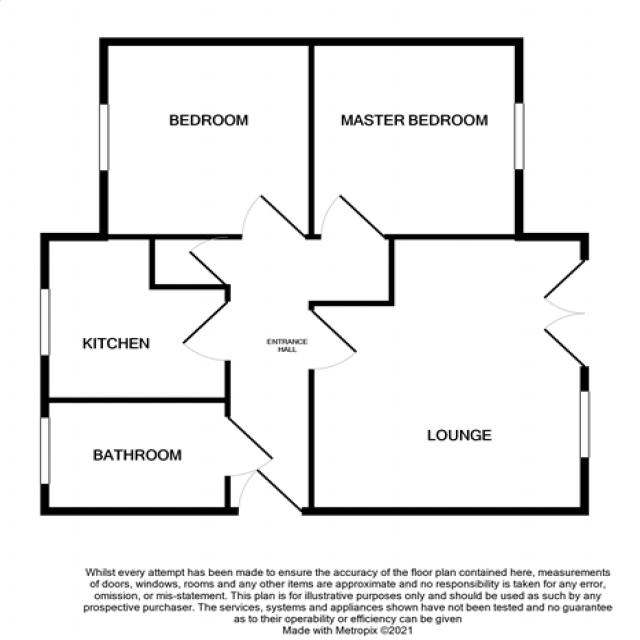DOOR: (223, 415, 277, 479), (237, 467, 305, 517), (307, 308, 360, 372), (240, 192, 308, 241), (319, 192, 387, 241), (180, 299, 232, 363)
DOUBLE DOOR: (539, 257, 590, 369)
ROOM: (307, 232, 590, 516), (308, 36, 525, 242), (98, 37, 315, 242), (39, 233, 231, 403)
WINDOW: (578, 390, 590, 460), (39, 288, 51, 357), (513, 102, 525, 171), (39, 417, 51, 486), (99, 103, 110, 172)
